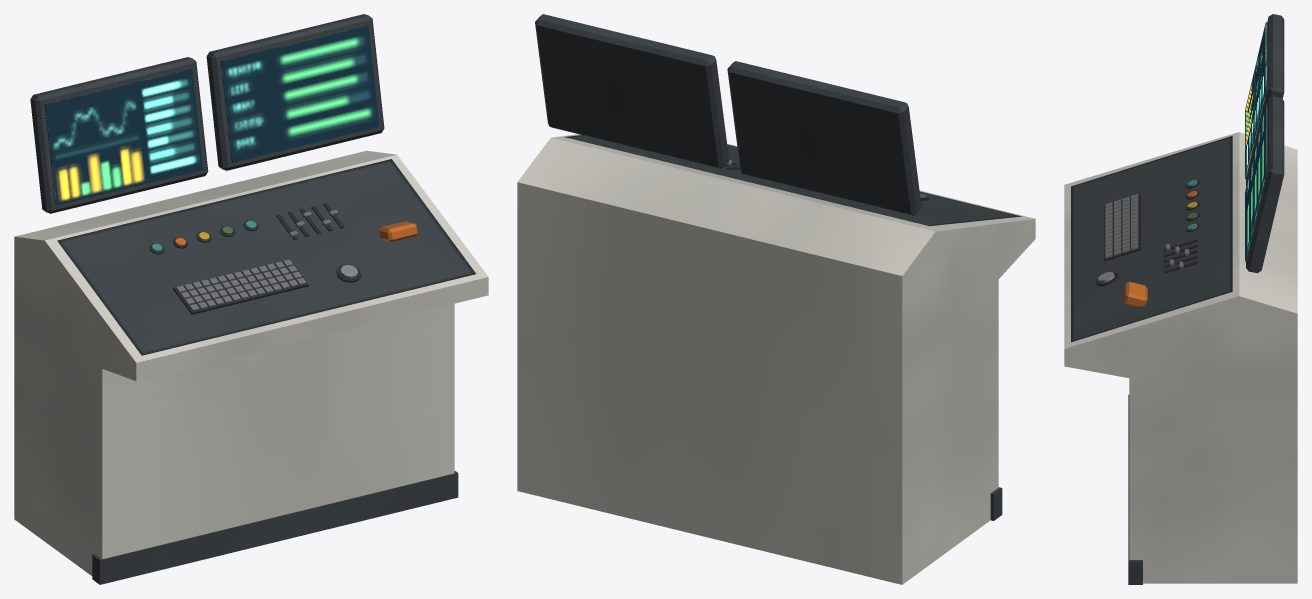
File: console_ss.fbx
The picture shows the model from 3 angles, left to right: view 1: azimuth 30°, elevation 25°; view 2: azimuth 150°, elevation 25°; view 3: azimuth 270°, elevation 25°; orthographic projection. The views are drawn at different scales.
Visible parts, largest first — view 1: console_ss, console_ss_screen1_lamp, console_ss_screen0_lamp, console_ss_key; view 2: console_ss; view 3: console_ss, console_ss_screen0_lamp, console_ss_screen1_lamp, console_ss_key.
Part boxes in pixels (left/top/right/bottom): console_ss: left=14, top=14, right=488, bottom=584; console_ss_screen1_lamp: left=221, top=25, right=379, bottom=162; console_ss_screen0_lamp: left=45, top=68, right=203, bottom=205; console_ss_key: left=379, top=221, right=417, bottom=242; console_ss: left=517, top=14, right=1035, bottom=584; console_ss: left=1064, top=14, right=1297, bottom=584; console_ss_screen0_lamp: left=1245, top=22, right=1266, bottom=179; console_ss_screen1_lamp: left=1245, top=104, right=1266, bottom=261; console_ss_key: left=1123, top=281, right=1147, bottom=306.
Bounding box in the file's own units: 1.22 × 1.4 × 0.72.
Materials: 1 (1 with a texture image).
